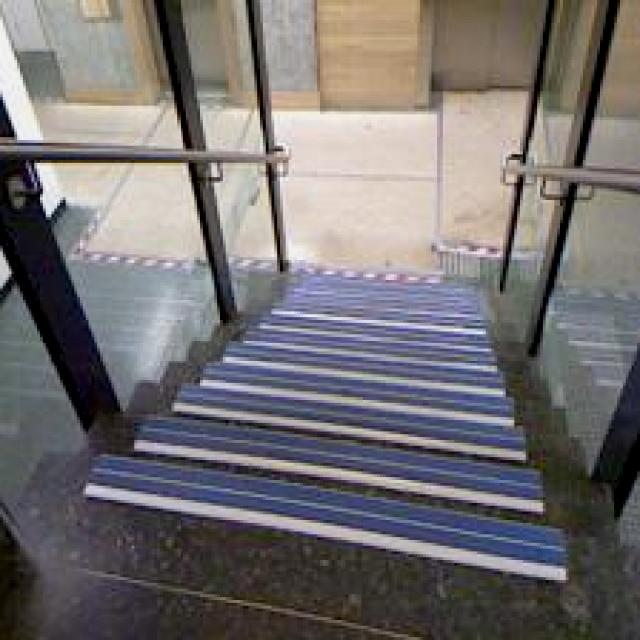downstair: (78, 367, 561, 595)
